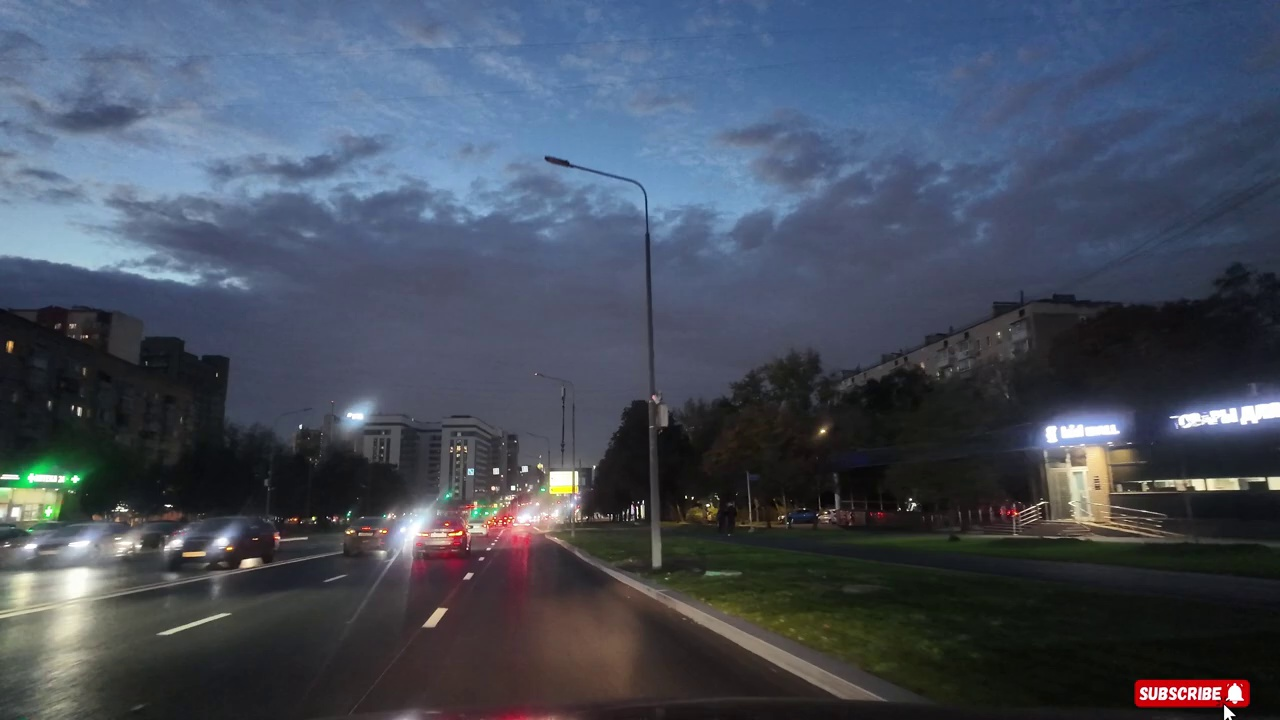acesa: (338, 397, 374, 435)
apagada: (538, 141, 593, 183)
